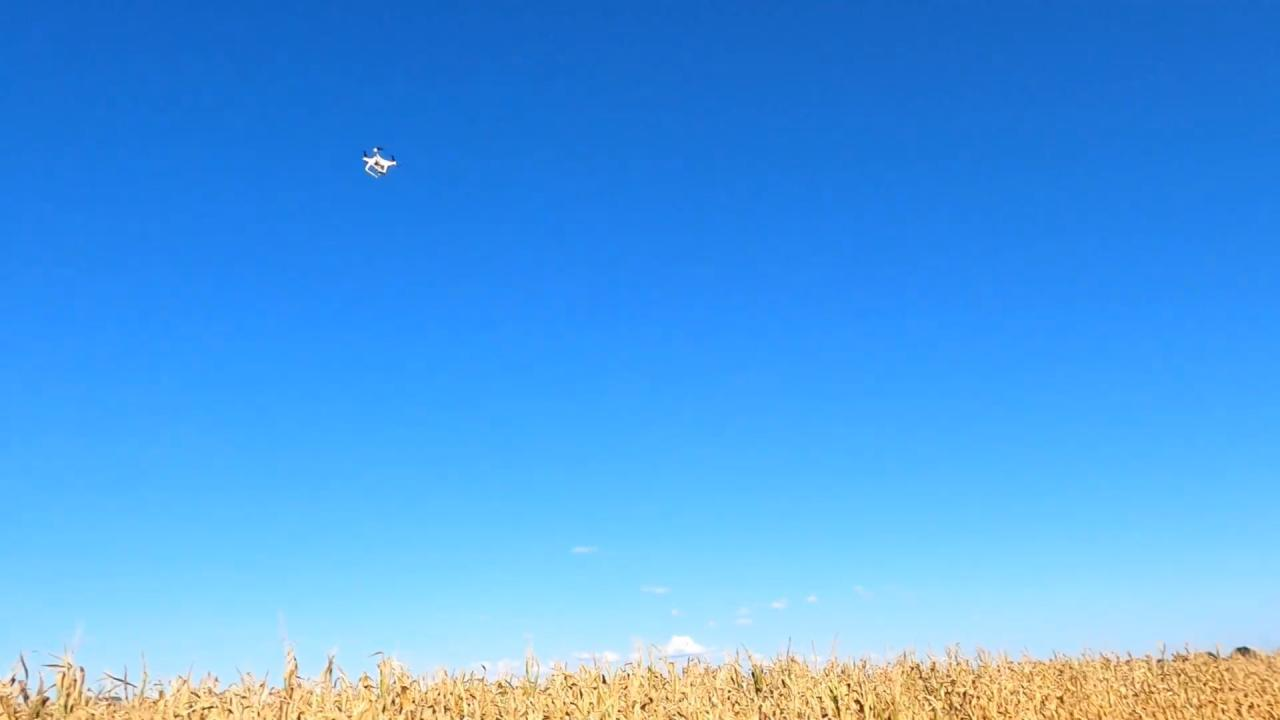Drone: (344, 138, 413, 188)
